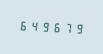four: (28, 18, 38, 33)
nine: (40, 19, 50, 33), (73, 21, 83, 35)
seven: (62, 20, 72, 35)
six: (51, 19, 61, 34), (17, 18, 27, 32)
